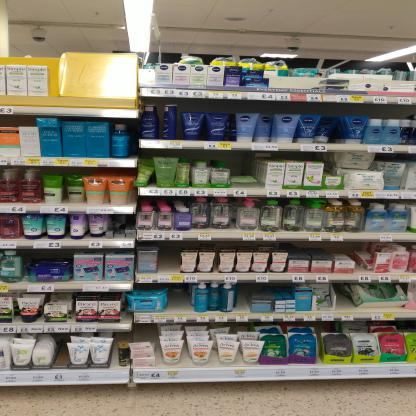Void: (233, 154, 263, 187), (287, 243, 359, 254), (154, 244, 177, 272), (170, 286, 189, 313), (28, 252, 70, 263), (235, 286, 247, 313)
